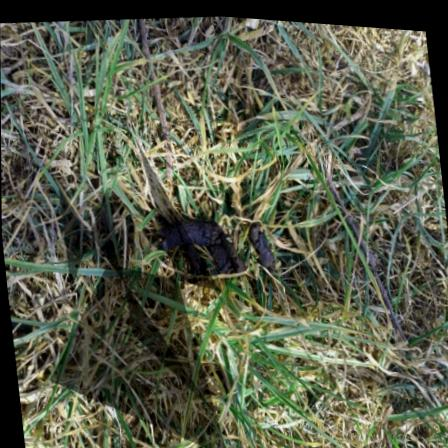dog-poop: (147, 201, 249, 281), (246, 204, 286, 269)
